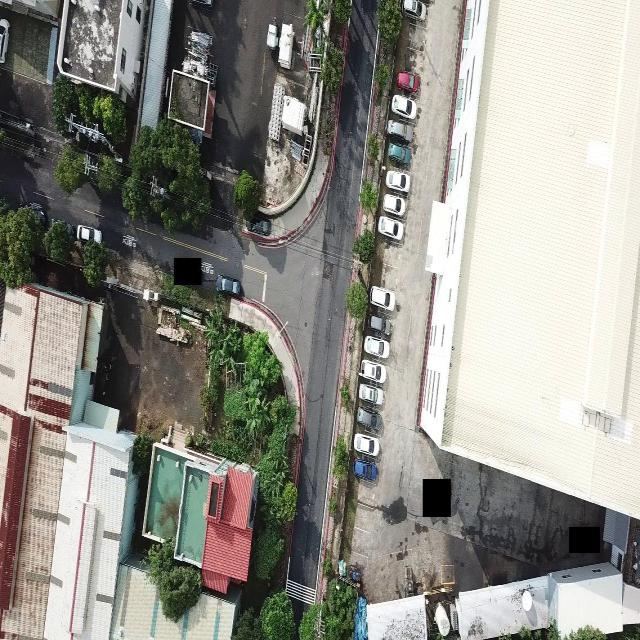car: (376, 215, 406, 245), (390, 93, 420, 121), (356, 406, 384, 433), (360, 360, 389, 386), (370, 286, 397, 313), (353, 432, 381, 458), (387, 142, 415, 168), (388, 120, 417, 145), (351, 456, 378, 482), (364, 336, 392, 360), (397, 71, 422, 97), (357, 382, 384, 406), (385, 170, 411, 194), (217, 274, 244, 296), (382, 194, 406, 218), (78, 223, 104, 244), (367, 313, 391, 335), (401, 0, 426, 21), (0, 17, 10, 63), (268, 20, 281, 48), (190, 0, 215, 7)
